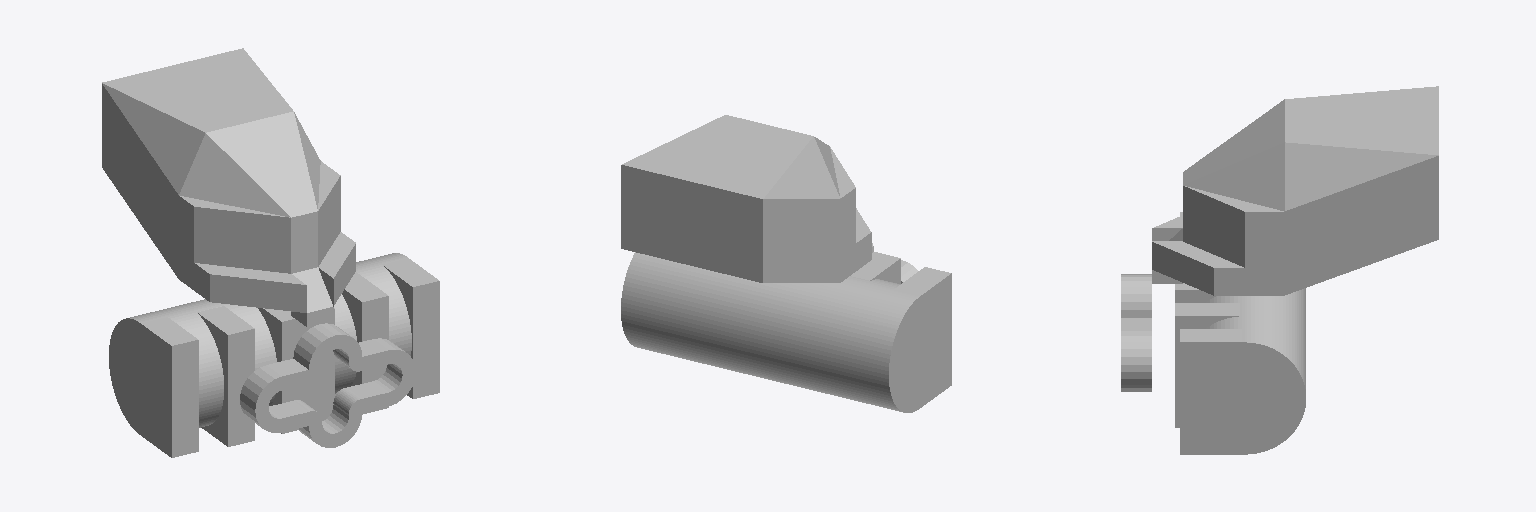
The model's file is mahri_head.obj.
3 renders of one model, left to right at view 1: azimuth 30°, elevation 25°; view 2: azimuth 150°, elevation 25°; view 3: azimuth 270°, elevation 25°, orthographic.
Parts seen in each view (by area): view 1: Mesh1_Model; view 2: Mesh1_Model; view 3: Mesh1_Model.
Part boxes in pixels (x1,y1,x2,y2): Mesh1_Model: (102,48,439,457); Mesh1_Model: (621,115,951,412); Mesh1_Model: (1121,86,1438,454).
Size of the model in its own units: 0.8865 by 0.8423 by 0.9125.